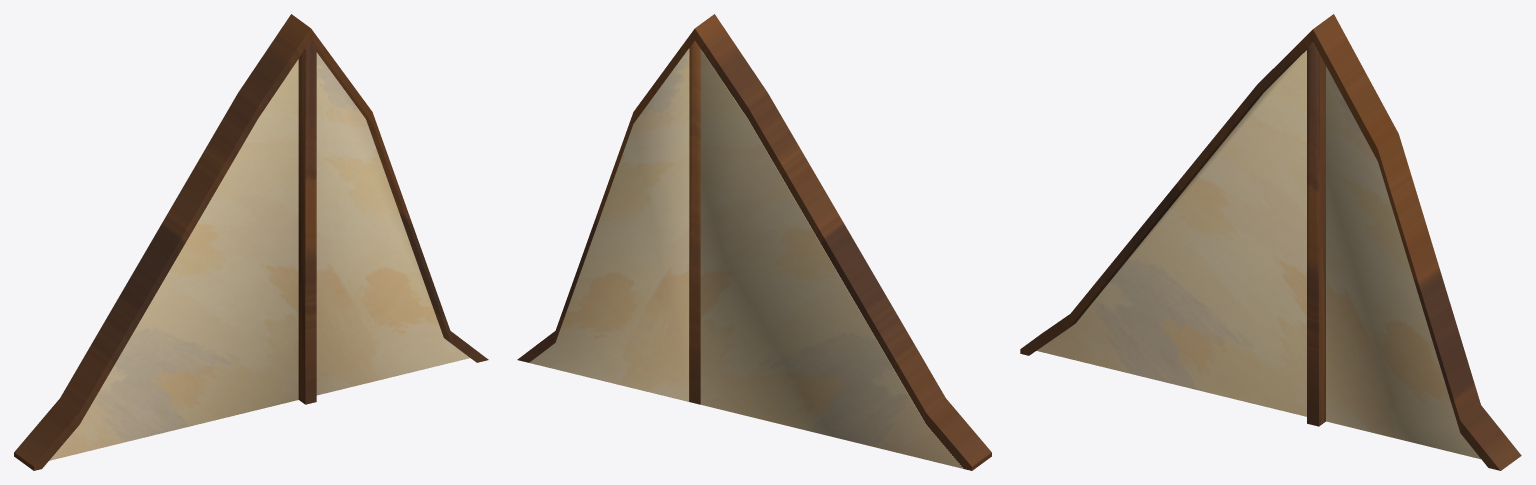
Rendered from CM_FacadeBay01_Gable_HeroB.fbx.
3 renders of one model, left to right at view 1: azimuth 30°, elevation 25°; view 2: azimuth 150°, elevation 25°; view 3: azimuth 330°, elevation 25°, orthographic. The views are drawn at different scales.
Parts seen in each view (by area): view 1: CM_FacadeBay01_Gable_HeroB_Plaster, CM_FacadeBay01_Gable_HeroB_ContinuousRake, CM_FacadeBay01_Gable_HeroB_KingPost; view 2: CM_FacadeBay01_Gable_HeroB_Plaster, CM_FacadeBay01_Gable_HeroB_ContinuousRake, CM_FacadeBay01_Gable_HeroB_KingPost; view 3: CM_FacadeBay01_Gable_HeroB_Plaster, CM_FacadeBay01_Gable_HeroB_ContinuousRake, CM_FacadeBay01_Gable_HeroB_KingPost.
Part boxes in pixels (bbox=[...]): CM_FacadeBay01_Gable_HeroB_Plaster: bbox=[49, 52, 469, 460]; CM_FacadeBay01_Gable_HeroB_ContinuousRake: bbox=[14, 14, 488, 470]; CM_FacadeBay01_Gable_HeroB_KingPost: bbox=[298, 40, 316, 404]; CM_FacadeBay01_Gable_HeroB_Plaster: bbox=[529, 48, 963, 468]; CM_FacadeBay01_Gable_HeroB_ContinuousRake: bbox=[517, 14, 991, 470]; CM_FacadeBay01_Gable_HeroB_KingPost: bbox=[689, 40, 700, 404]; CM_FacadeBay01_Gable_HeroB_Plaster: bbox=[1036, 50, 1480, 459]; CM_FacadeBay01_Gable_HeroB_ContinuousRake: bbox=[1020, 14, 1521, 470]; CM_FacadeBay01_Gable_HeroB_KingPost: bbox=[1307, 42, 1325, 426].
Bounding box in the file's own units: 5.55 × 4.37 × 0.42.
